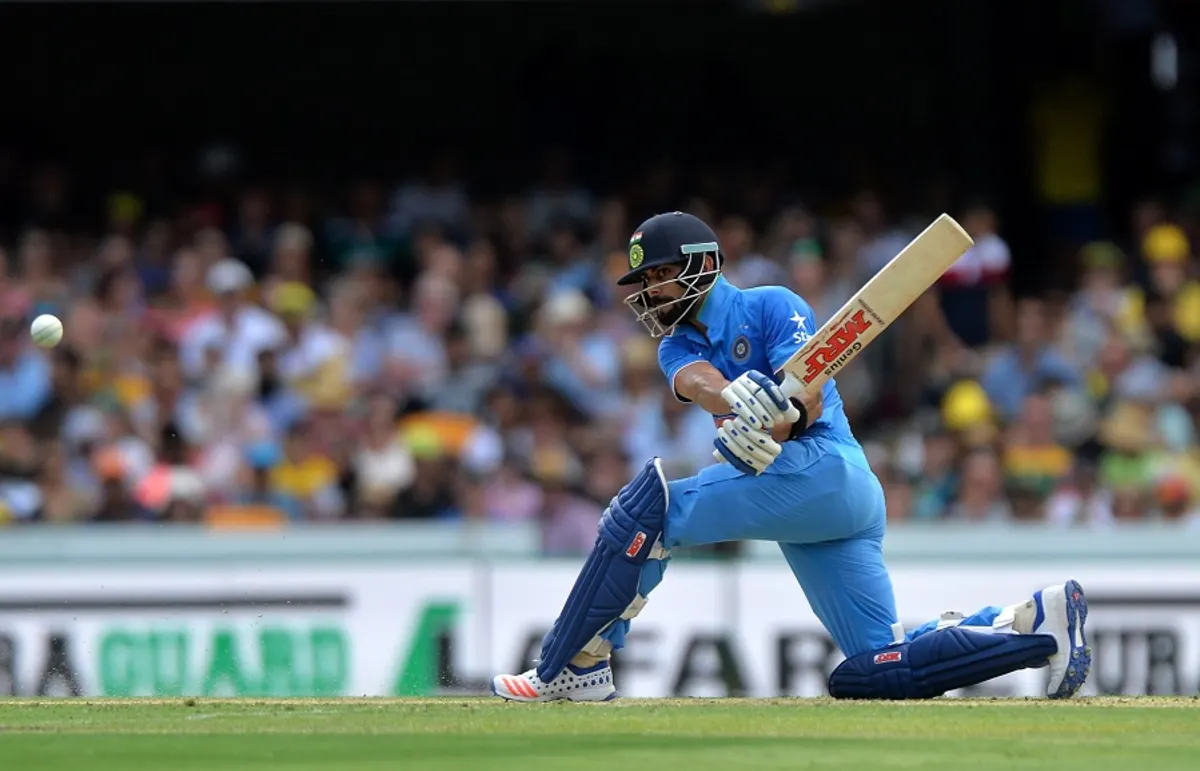Sweepshot: (409, 153, 1138, 722)
